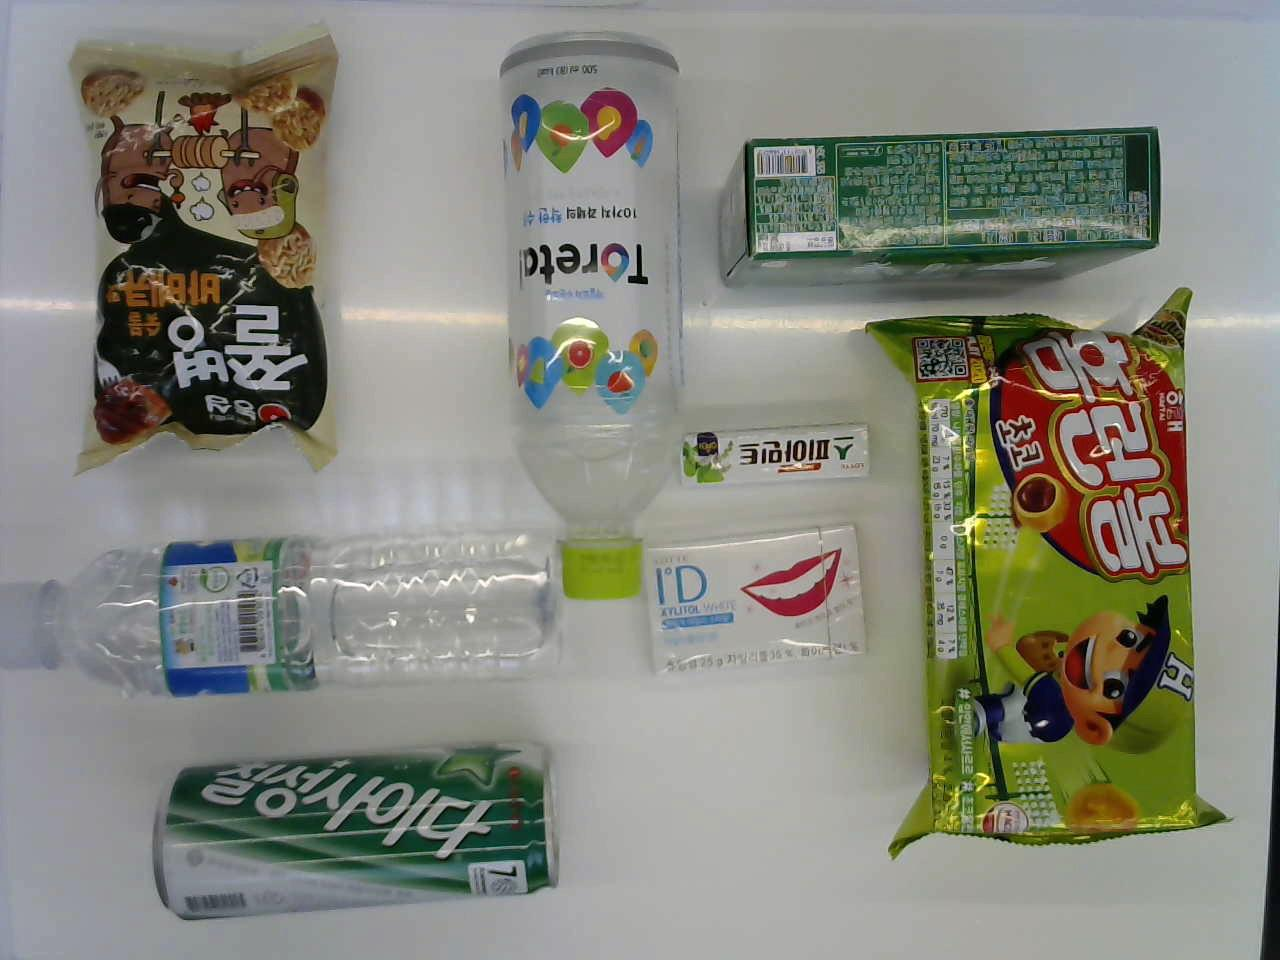ID_gum: (639, 517, 867, 677)
cidar: (148, 733, 573, 919)
couque_coffee: (711, 104, 1175, 295)
homerunball: (881, 283, 1204, 877)
jjolbyung_ori: (71, 35, 345, 467)
samdasu: (4, 519, 574, 707)
spearmint: (674, 400, 872, 506)
toreta: (483, 31, 694, 604)
